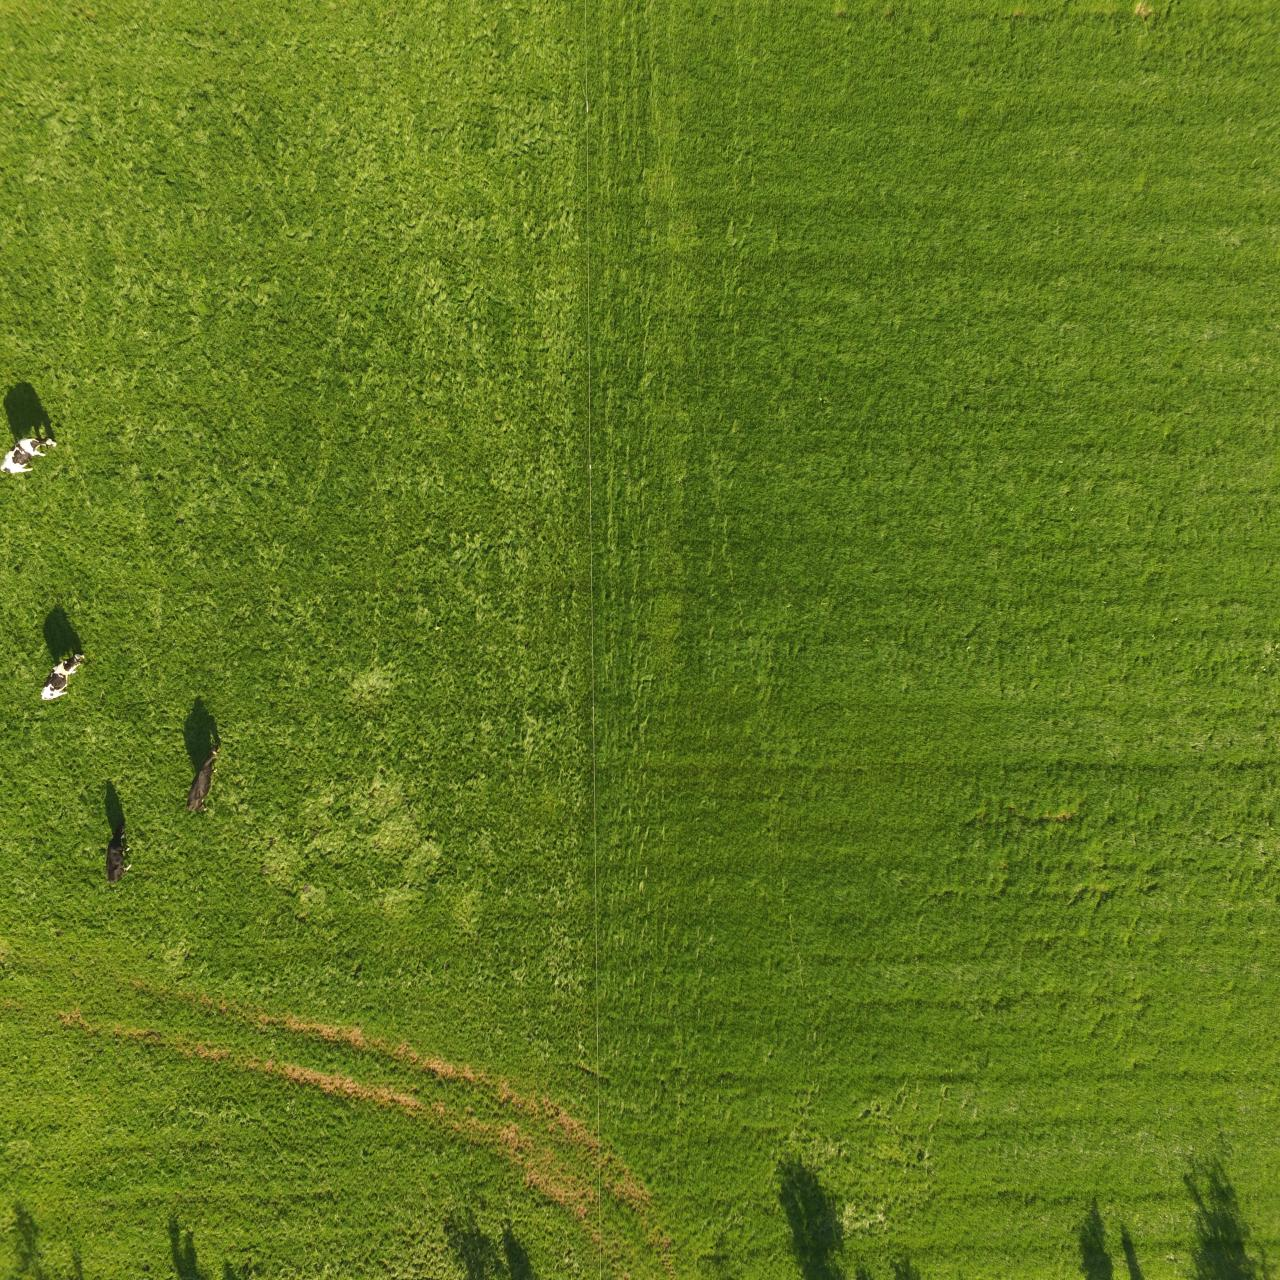cow: (175, 740, 238, 830), (36, 626, 93, 715), (0, 418, 62, 491), (103, 818, 141, 887)
